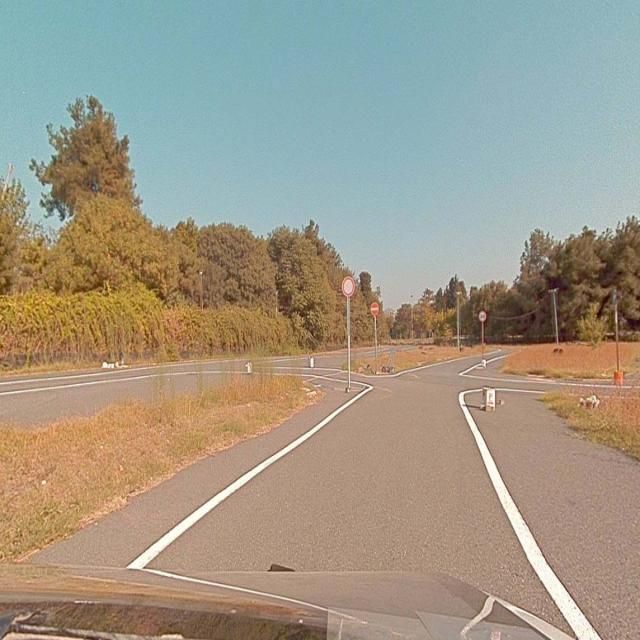girisyok: (370, 303, 379, 316)
